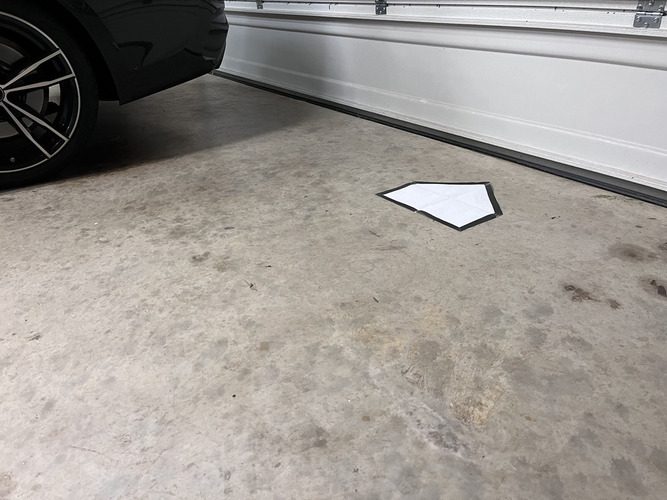homeplate: (374, 180, 502, 232)
